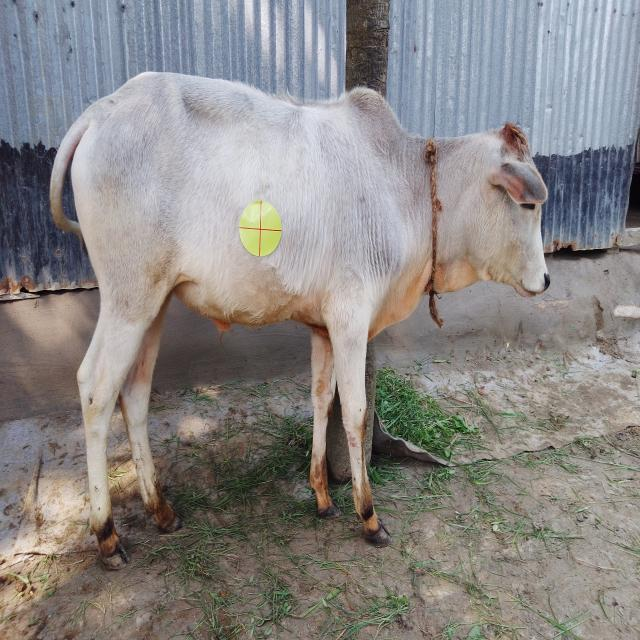badan_sapi: (71, 94, 417, 324)
sapi: (44, 64, 566, 582)
